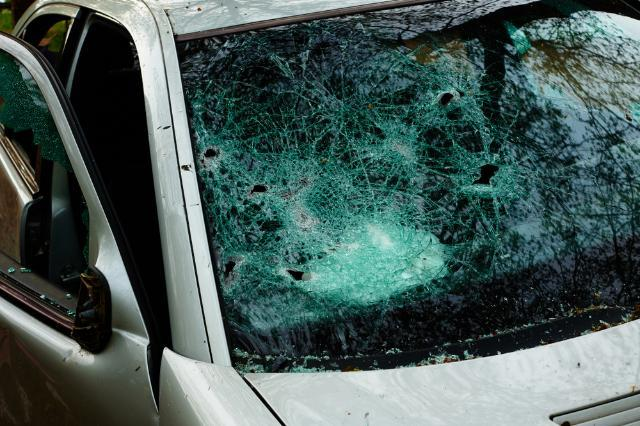glass shatter: (175, 0, 640, 372)
